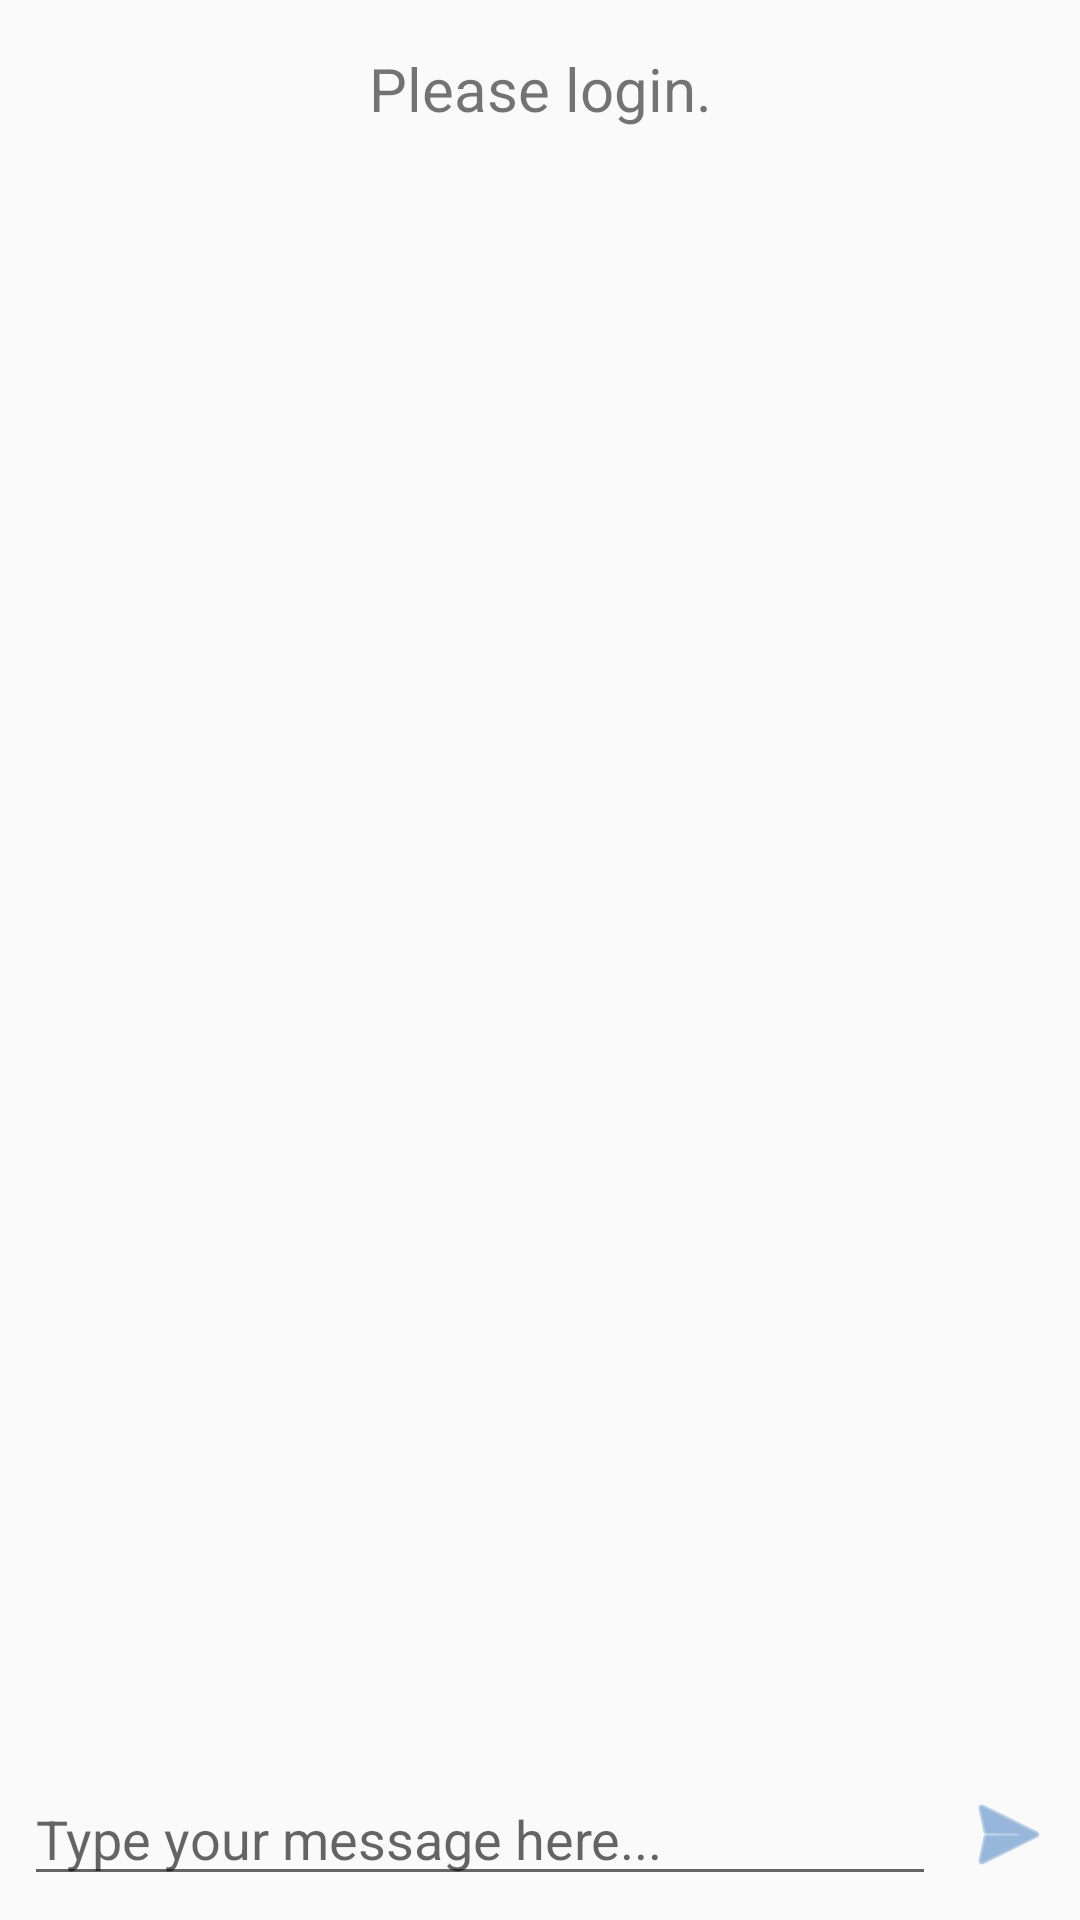

Icon bounding boxes for this 1080w x 1920h phone screenshot, format {"left": x1, "top": y1, "right": x2, "bottom": y2}:
send: {"left": 978, "top": 1804, "right": 1039, "bottom": 1865}
